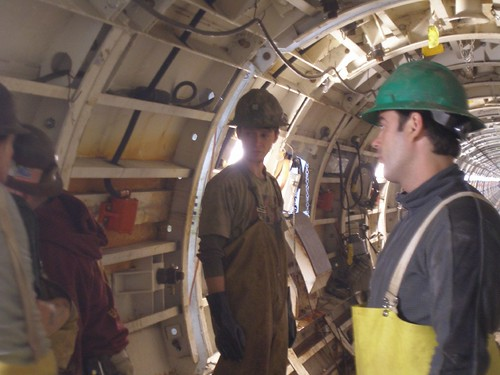person hardhat: (346, 49, 500, 375), (197, 88, 326, 375), (13, 120, 136, 375), (1, 78, 32, 373)
